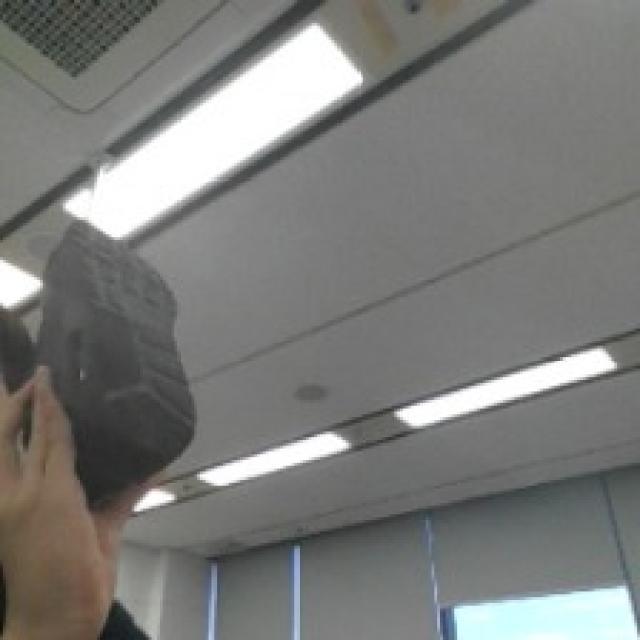shoe: (0, 155, 288, 540)
